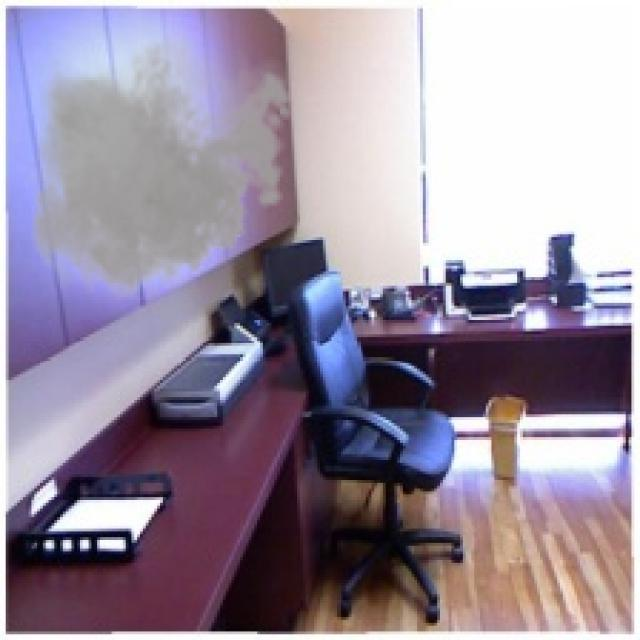Smoke: (20, 25, 300, 308)
